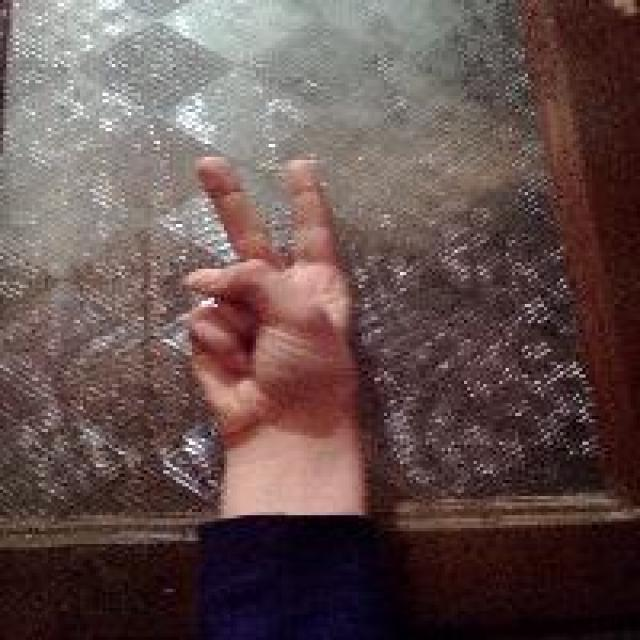V: (173, 149, 365, 440)
